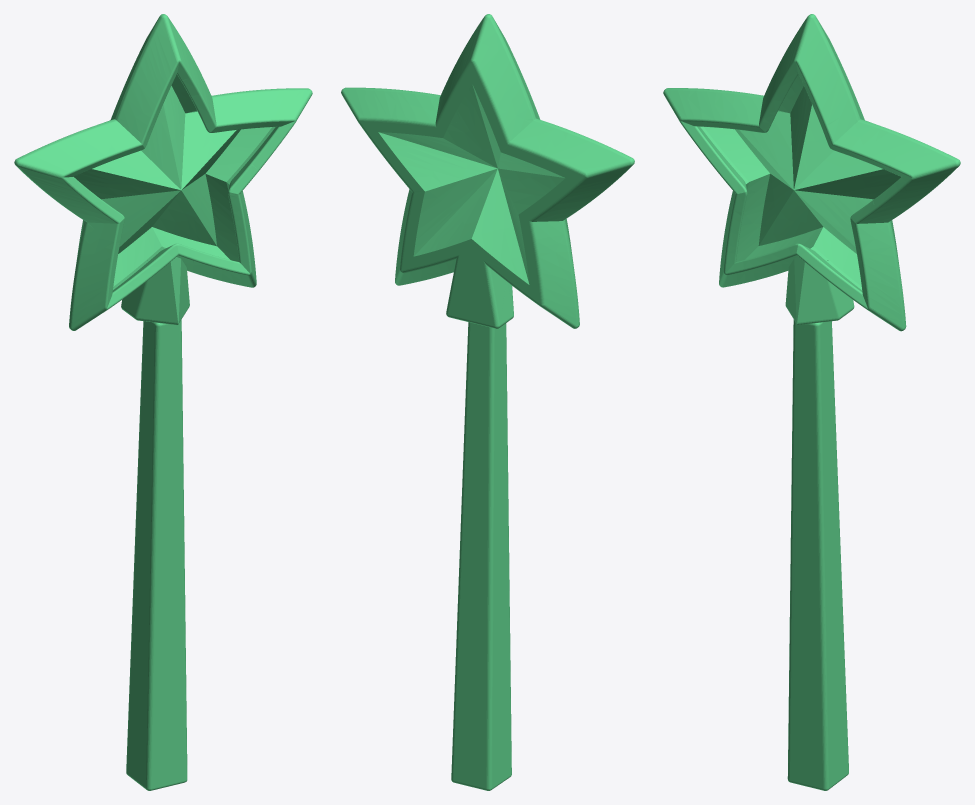
Rendered from Magic Wand.fbx.
3 renders of one model, left to right at view 1: azimuth 30°, elevation 25°; view 2: azimuth 150°, elevation 25°; view 3: azimuth 330°, elevation 25°, orthographic.
Parts seen in each view (by area): view 1: Star, Origin; view 2: Star, Origin; view 3: Star, Origin.
Boxes of the visible parts, x1,y1,x2,y2 form: Star: (14, 14, 312, 330); Origin: (126, 319, 187, 790); Star: (341, 14, 634, 328); Origin: (451, 322, 511, 790); Star: (663, 14, 960, 331); Origin: (787, 319, 848, 790).
Size of the model in its own units: 1853 by 4607 by 395.
